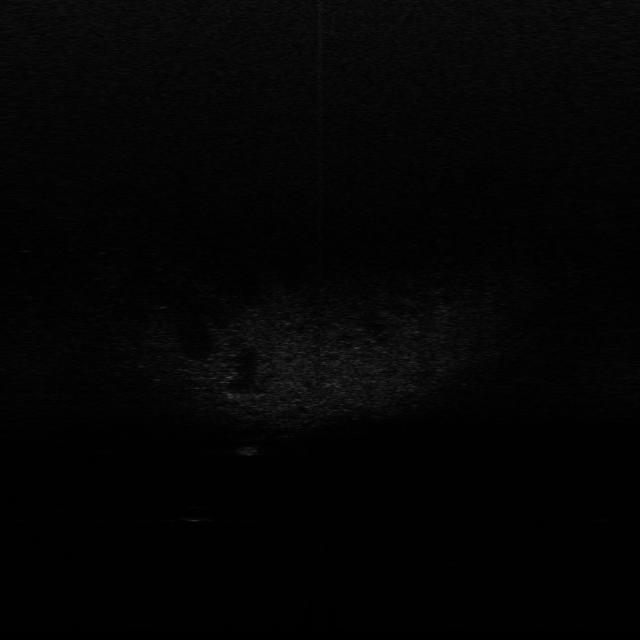ball: (183, 504, 211, 524)
cube: (237, 443, 259, 458)
